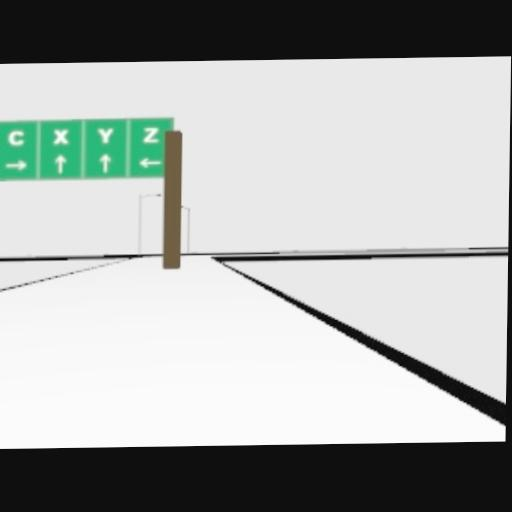C: (8, 129, 24, 144)
Left: (137, 157, 162, 167)
Right: (4, 159, 27, 169)
Straight: (53, 152, 66, 172), (98, 152, 111, 171)
X: (52, 127, 68, 143)
Y: (97, 127, 113, 142)
Z: (141, 126, 159, 141)
